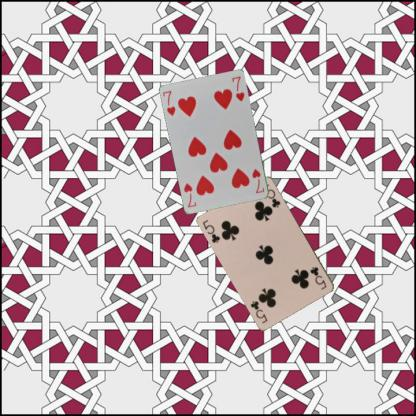5c: (200, 218, 222, 245), (308, 264, 328, 291)
7h: (249, 166, 266, 195), (160, 89, 176, 118)
